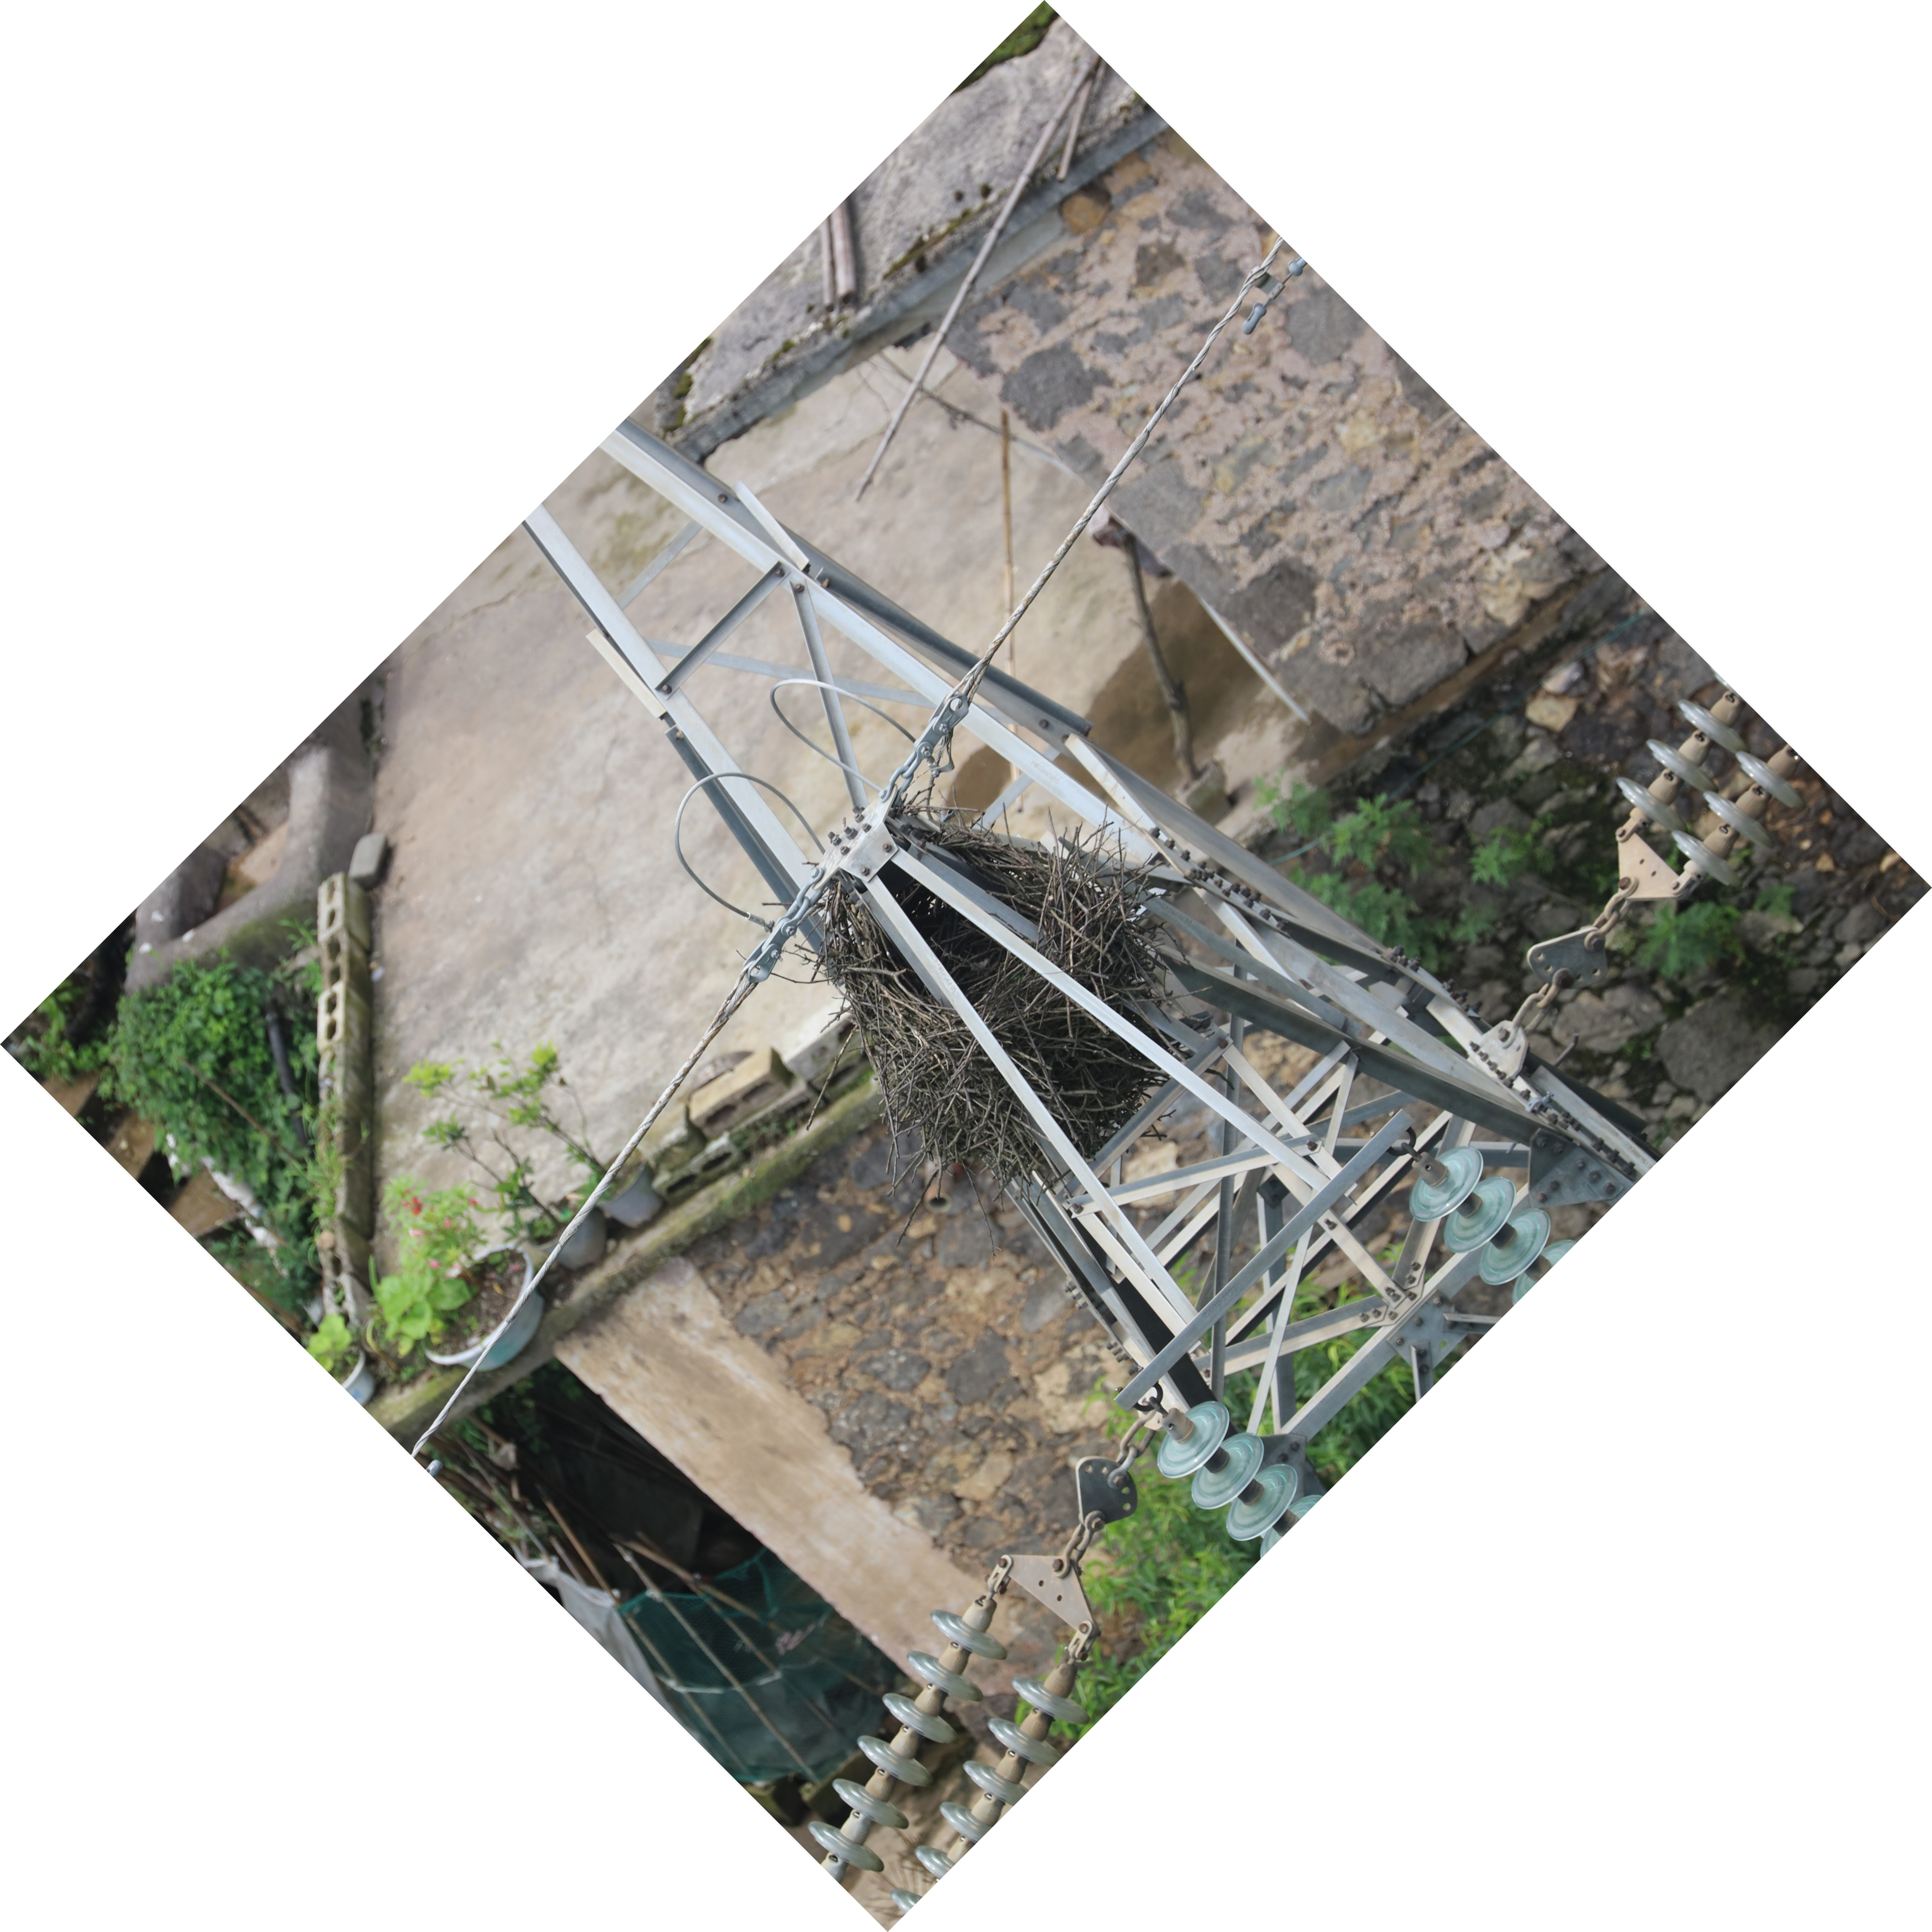niaowo: (782, 809, 1184, 1177)
